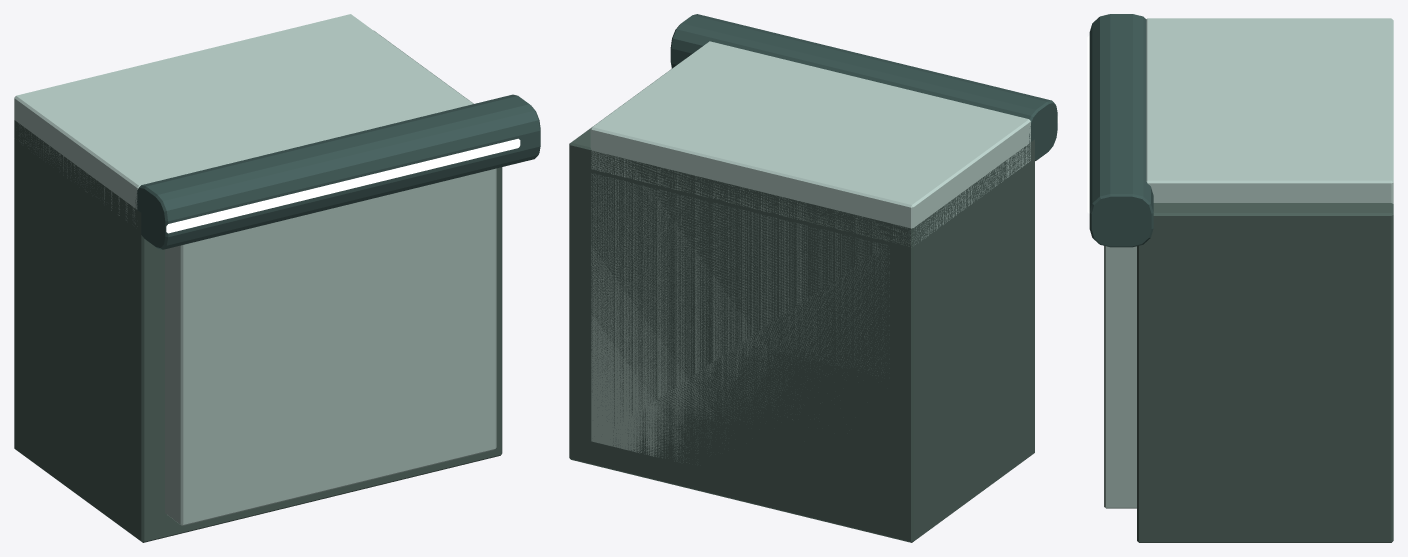
The model's file is Terrain_TopRun1R.gltf.
3 renders of one model, left to right at view 1: azimuth 30°, elevation 25°; view 2: azimuth 150°, elevation 25°; view 3: azimuth 270°, elevation 25°, orthographic. The views are drawn at different scales.
Visible parts, largest first — view 1: Terrain_TopRun1R_baked; view 2: Terrain_TopRun1R_baked; view 3: Terrain_TopRun1R_baked.
Boxes of the visible parts, bbox=[...] form: Terrain_TopRun1R_baked: bbox=[14, 14, 540, 542]; Terrain_TopRun1R_baked: bbox=[569, 14, 1058, 542]; Terrain_TopRun1R_baked: bbox=[1087, 14, 1393, 542].
Size of the model in its own units: 1.04 by 0.9495 by 0.74.
